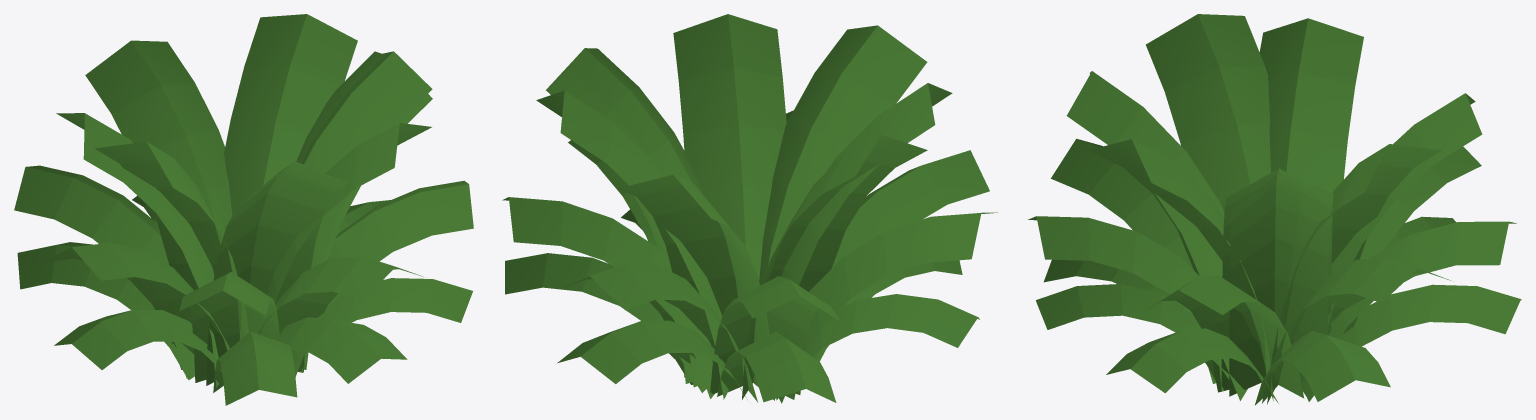
Rendered from fern_clump.glb.
3 views of the same model, side by side, from view 1: azimuth 30°, elevation 25°; view 2: azimuth 150°, elevation 25°; view 3: azimuth 270°, elevation 25° (orthographic). The views are drawn at different scales.
Visible parts, largest first — view 1: fern_clump_lod0; view 2: fern_clump_lod0; view 3: fern_clump_lod0.
Part boxes in pixels (x1,y1,x2,y2): fern_clump_lod0: [14, 14, 473, 405]; fern_clump_lod0: [502, 14, 997, 403]; fern_clump_lod0: [1028, 14, 1521, 405].
Size of what is drawn, in the model's own units: 1.26 by 0.8726 by 1.29.
